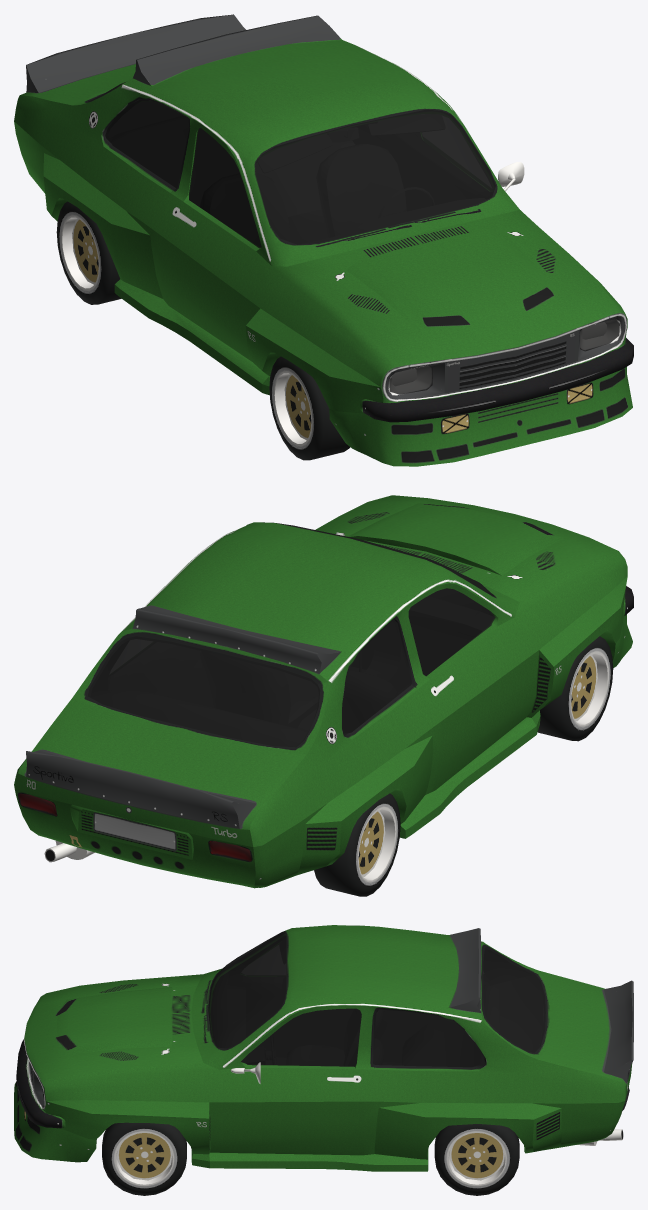
File: car3.glb
3 views of the same model, one above another, from view 1: azimuth 30°, elevation 25°; view 2: azimuth 150°, elevation 25°; view 3: azimuth 270°, elevation 25° (orthographic). The views are drawn at different scales.
Visible parts, largest first — view 1: body_4, glass_2, int_1, wfr_5, wrr_7; view 2: body_4, glass_2, int_1, wrr_7, wfr_5; view 3: body_4, glass_2, int_1, wfl_0, wrl_6.
Part boxes in pixels (x1,y1,x2,y2): body_4: (14, 14, 633, 466); glass_2: (88, 82, 619, 394); int_1: (108, 102, 493, 246); wfr_5: (269, 356, 349, 460); wrr_7: (56, 201, 121, 304); body_4: (14, 495, 633, 888); glass_2: (18, 523, 495, 861); int_1: (91, 589, 493, 746); wrr_7: (314, 793, 400, 896); wfr_5: (537, 636, 613, 741); body_4: (14, 925, 633, 1171); glass_2: (42, 931, 629, 1111); int_1: (211, 936, 542, 1066); wfl_0: (102, 1122, 186, 1195); wrl_6: (434, 1124, 519, 1195).
Bounding box in the file's own units: 1.95 × 1.42 × 4.31.
4 materials, 1 textured.
